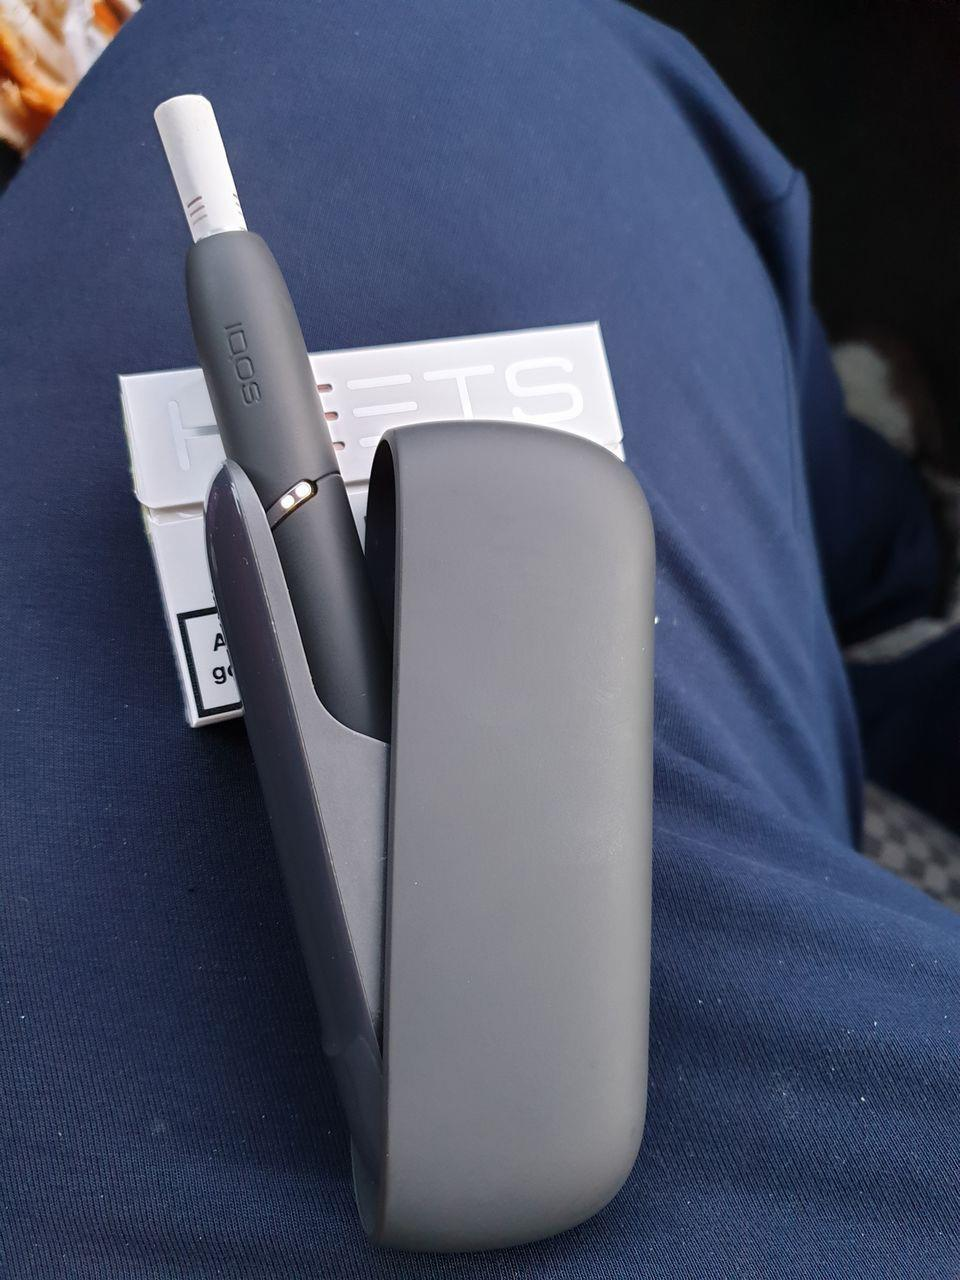iqos: (155, 95, 388, 739)
